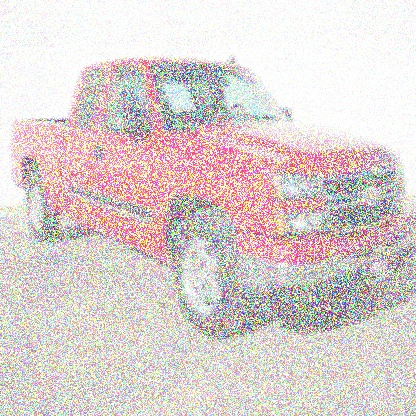Vehicle: (12, 55, 415, 343)
